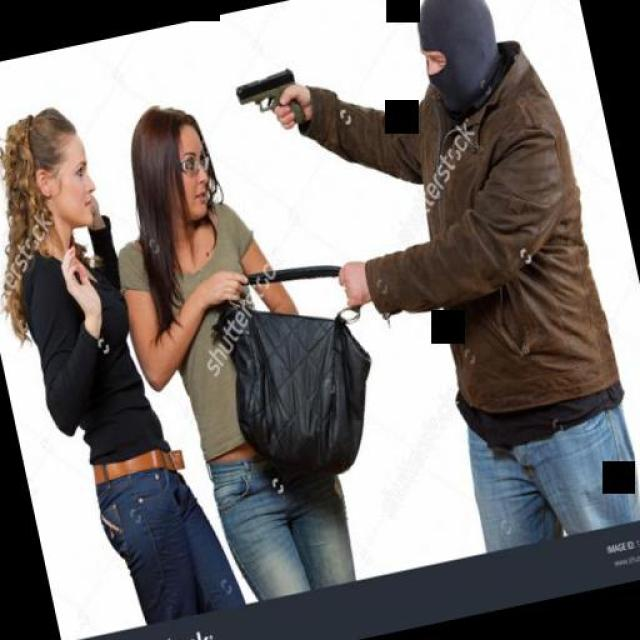gun: (228, 64, 308, 134)
